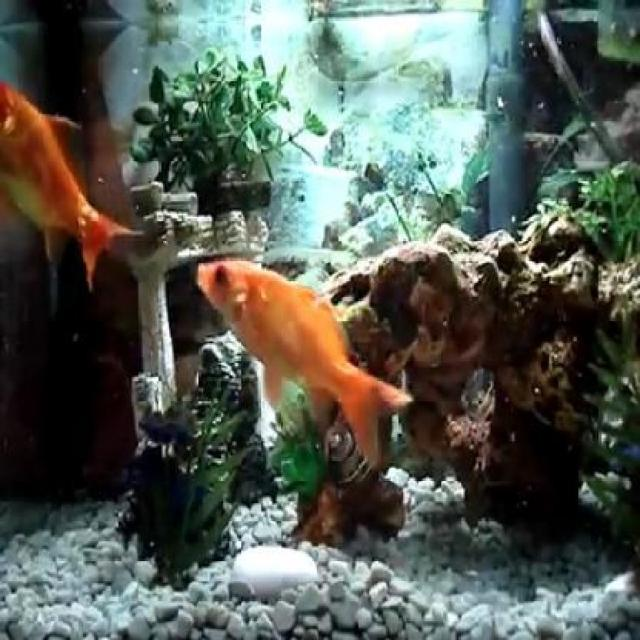GoldFish: (197, 247, 411, 465), (2, 76, 143, 293)
